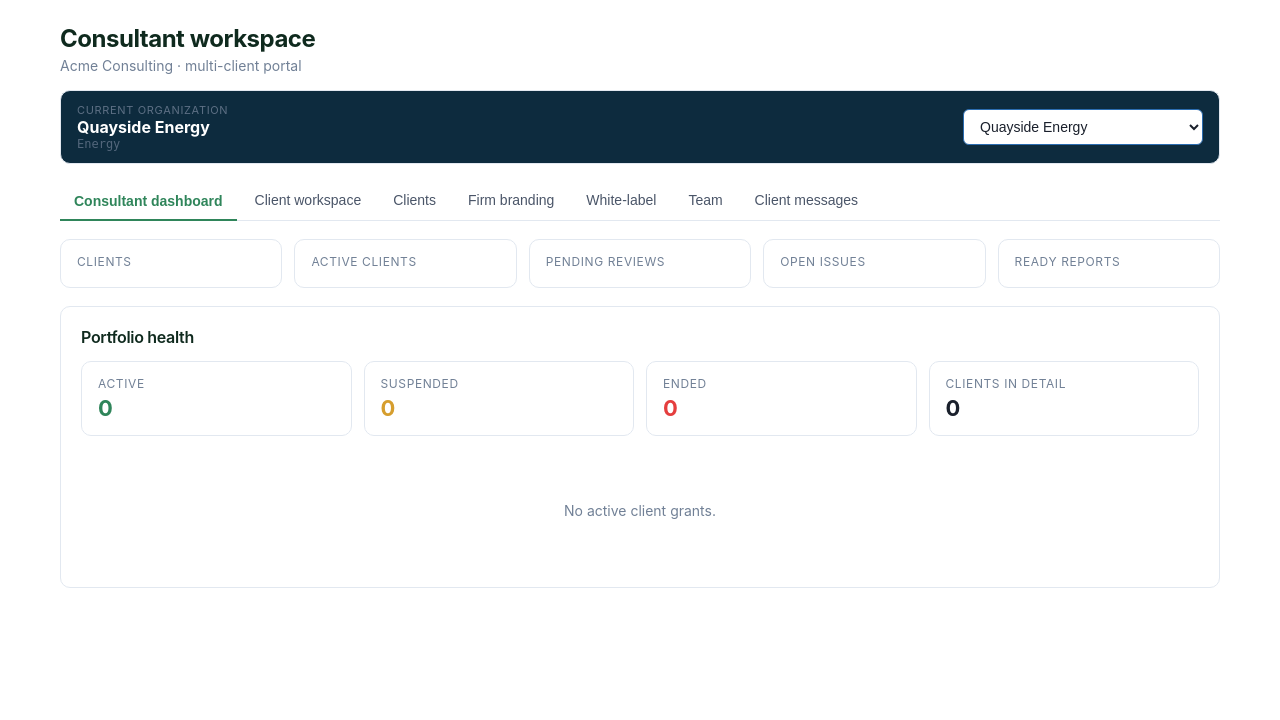
it: Consultant workspace IA (BL-7) › client directory + lifecycle actions live in the Clients tab
Expected: the text "Acme Consulting · multi-client portal" is shown, x1=60 y1=57 x2=315 y2=74
Click the button "Clients" at (415,201), box x1=379 y1=182 x2=450 y2=220
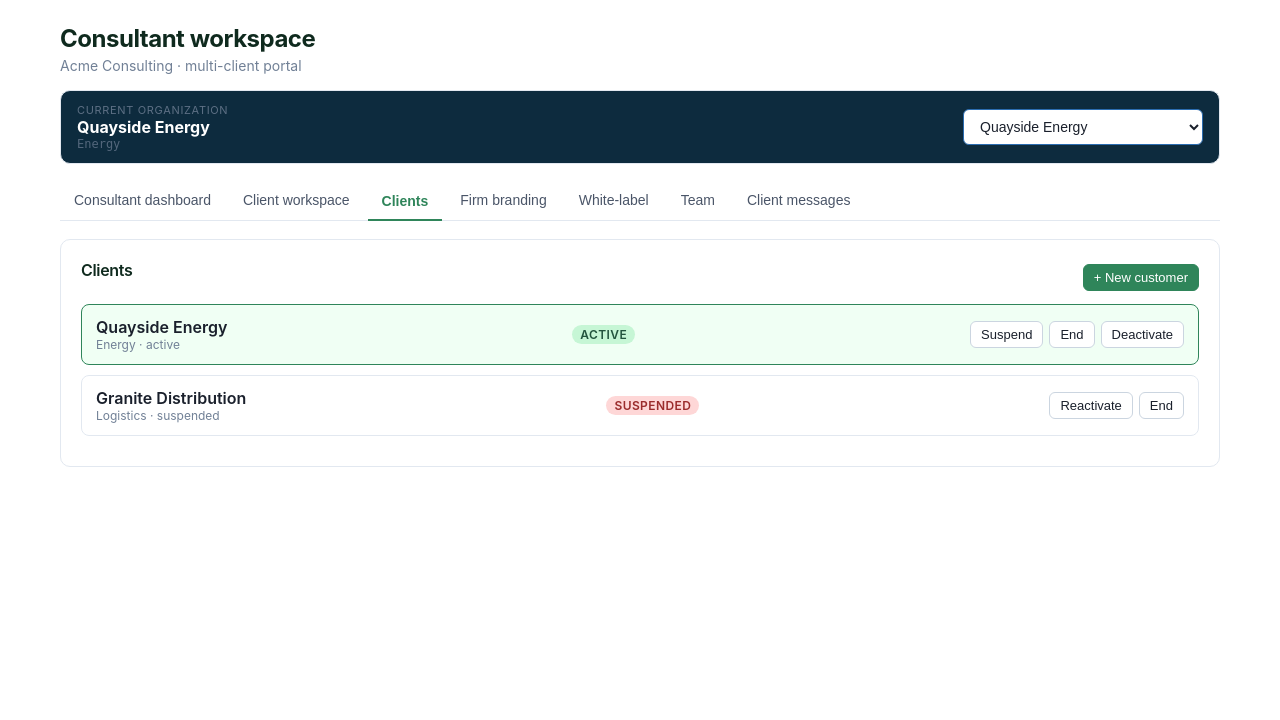
Expected: the text "ACTIVE" is shown 2 times, x1=572 y1=325 x2=635 y2=344; x1=606 y1=396 x2=699 y2=415
Expected: the button "Suspend" is shown, x1=970 y1=321 x2=1043 y2=348
Expected: the number of buttons "End" is 2, x1=1049 y1=321 x2=1094 y2=348; x1=1139 y1=392 x2=1184 y2=419
